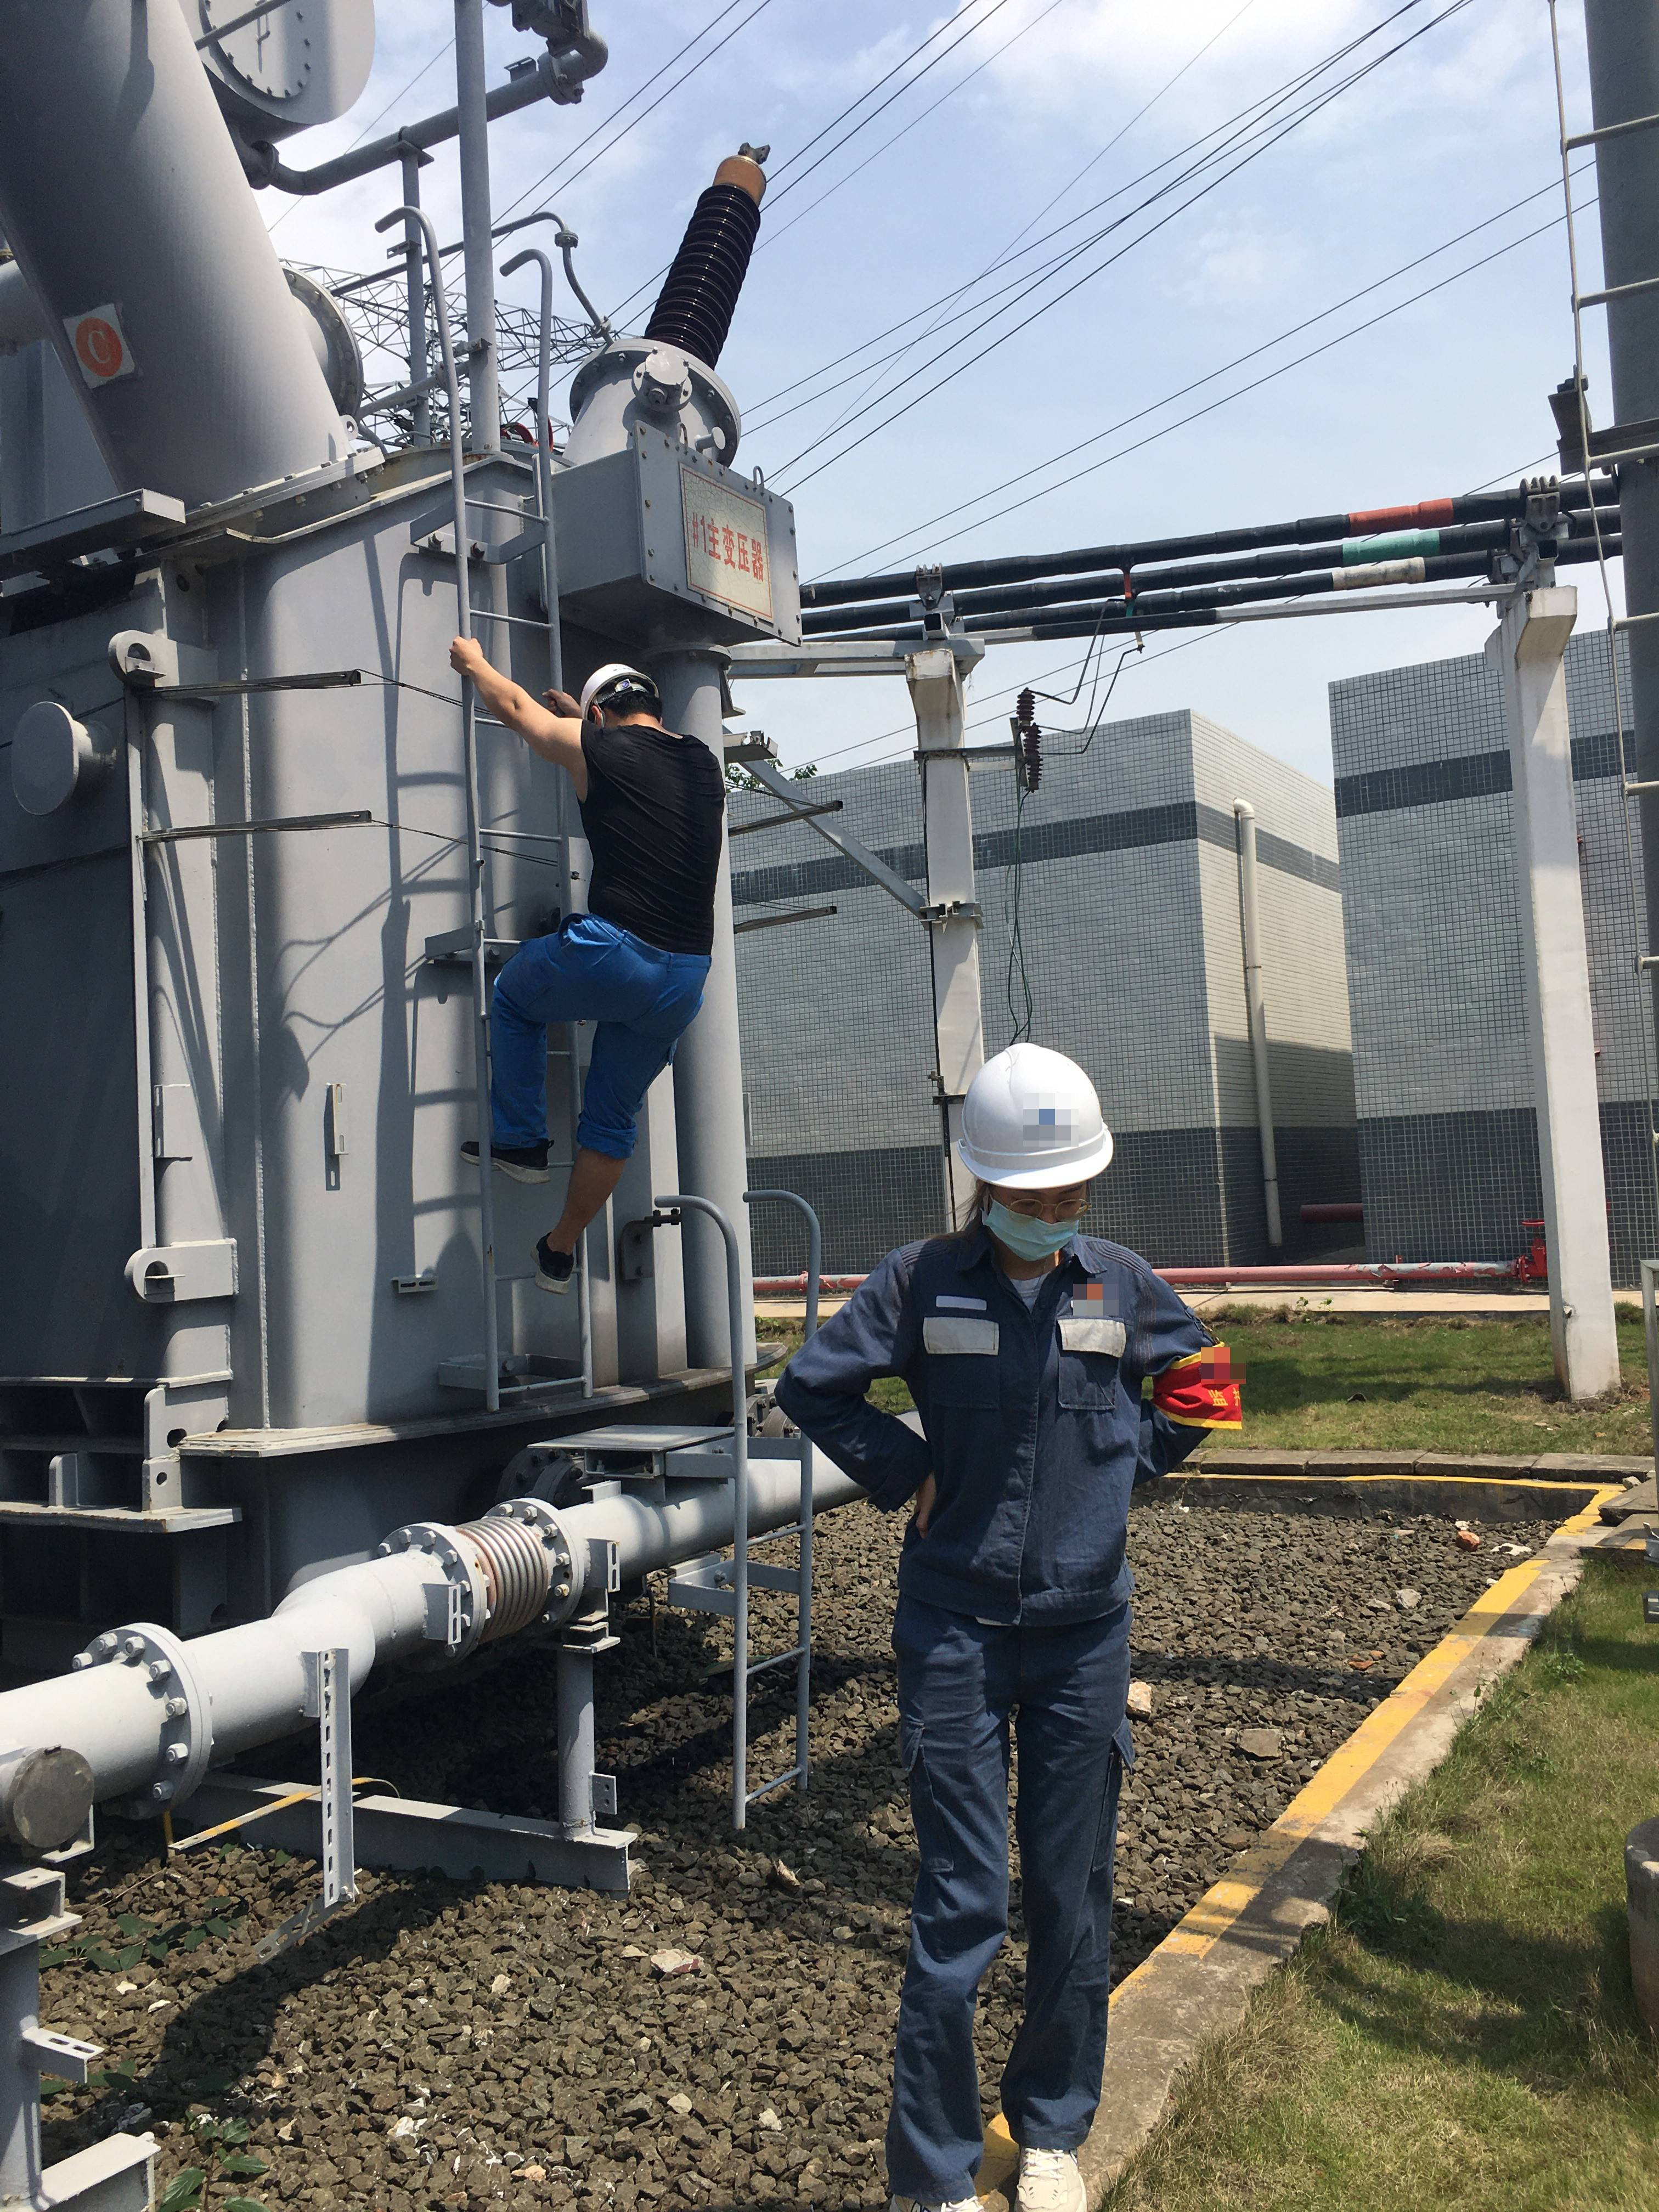downsuit: (887, 1637, 1148, 2193), (497, 934, 699, 1186)
upcloth: (556, 702, 725, 939)
upsuit: (819, 1219, 1195, 1634)
wrongbottom: (547, 1127, 640, 1275)
